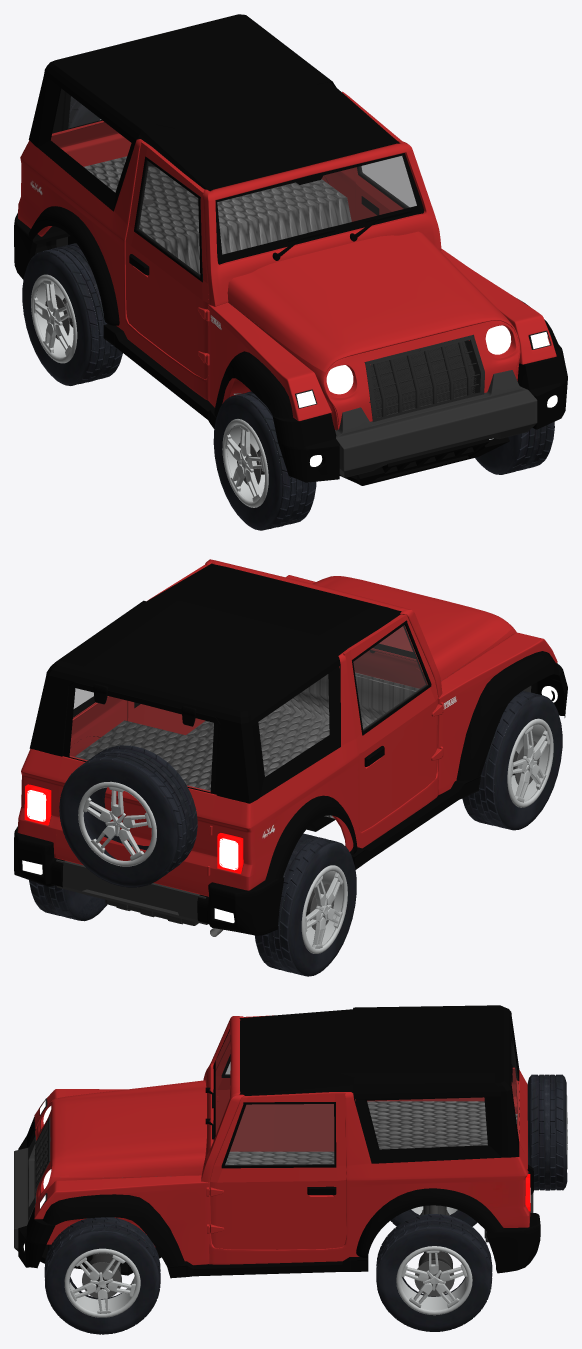
File: thar.glb
3 renders of one model, top to bottom at view 1: azimuth 30°, elevation 25°; view 2: azimuth 150°, elevation 25°; view 3: azimuth 270°, elevation 25°, orthographic. The views are drawn at different scales.
Parts seen in each view (by area): view 1: Object_20, Object_16, Object_39, Object_41, Object_42, Object_18, Object_33, Object_45, Object_43, Object_4, Object_47, Object_28 (+17 smaller); view 2: Object_20, Object_41, Object_33, Object_39, Object_18, Object_42, Object_47, Object_31, Object_16, Object_43, Object_4, Object_27 (+11 smaller); view 3: Object_20, Object_18, Object_41, Object_16, Object_33, Object_39, Object_42, Object_47, Object_5, Object_31, Object_43, Object_21 (+15 smaller).
Boxes of the visible parts, bbox=[...] form: Object_20: bbox=[28, 14, 399, 211]; Object_16: bbox=[227, 231, 511, 372]; Object_39: bbox=[51, 89, 416, 276]; Object_41: bbox=[18, 131, 441, 400]; Object_42: bbox=[84, 156, 351, 394]; Object_18: bbox=[125, 91, 403, 379]; Object_33: bbox=[22, 96, 554, 529]; Object_45: bbox=[335, 370, 537, 477]; Object_43: bbox=[14, 213, 567, 482]; Object_4: bbox=[208, 302, 331, 421]; Object_47: bbox=[28, 176, 558, 418]; Object_28: bbox=[62, 92, 423, 282]; Object_20: bbox=[29, 563, 404, 803]; Object_41: bbox=[17, 559, 442, 896]; Object_33: bbox=[29, 691, 562, 975]; Object_39: bbox=[70, 625, 427, 791]; Object_18: bbox=[127, 564, 443, 875]; Object_42: bbox=[75, 673, 418, 818]; Object_47: bbox=[93, 651, 559, 879]; Object_31: bbox=[29, 690, 558, 921]; Object_16: bbox=[312, 576, 512, 680]; Object_43: bbox=[14, 663, 567, 935]; Object_4: bbox=[438, 632, 557, 794]; Object_27: bbox=[55, 755, 216, 895]; Object_20: bbox=[239, 1005, 519, 1163]; Object_18: bbox=[206, 1015, 346, 1249]; Object_41: bbox=[201, 1016, 530, 1264]; Object_16: bbox=[50, 1080, 206, 1177]; Object_33: bbox=[44, 1074, 567, 1333]; Object_39: bbox=[216, 1032, 519, 1165]; Object_42: bbox=[225, 1101, 517, 1164]; Object_47: bbox=[42, 1188, 503, 1266]; Object_5: bbox=[34, 1175, 209, 1265]; Object_31: bbox=[376, 1074, 563, 1331]; Object_43: bbox=[18, 1117, 540, 1273]; Object_21: bbox=[167, 1256, 368, 1278].
Size of the model in its own units: 14.51 by 13.63 by 28.9.
Materials: 37 (15 with a texture image).
